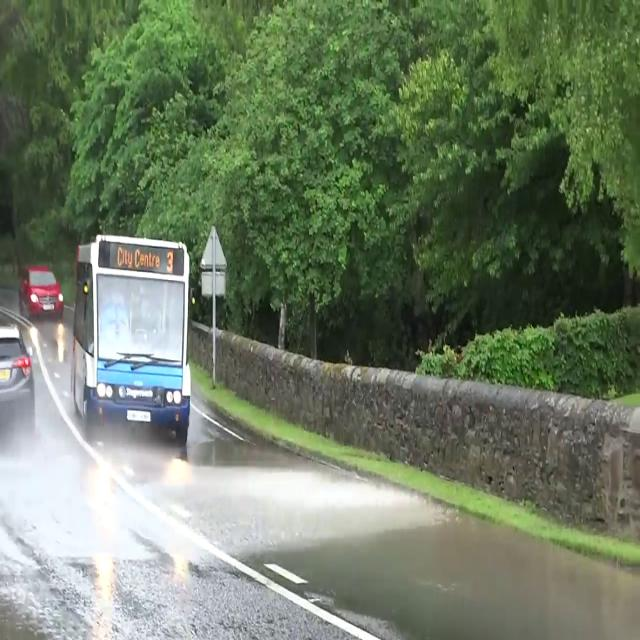license-plate-annotation: (120, 409, 156, 419)
